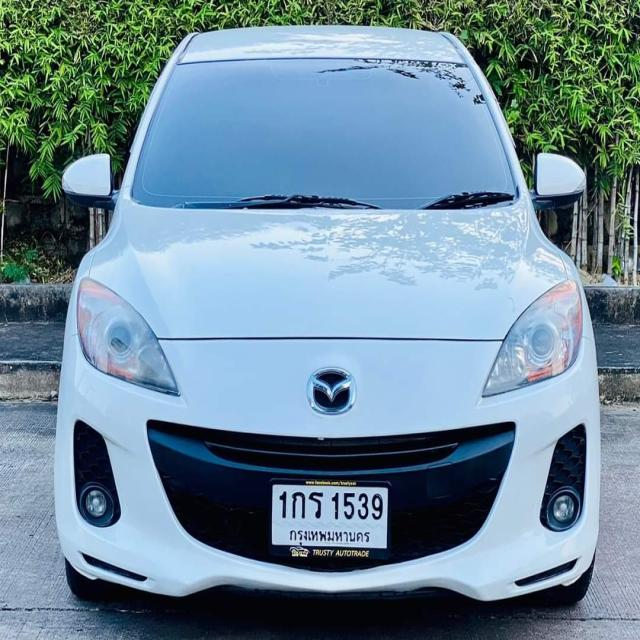license_plate: (267, 476, 392, 563)
